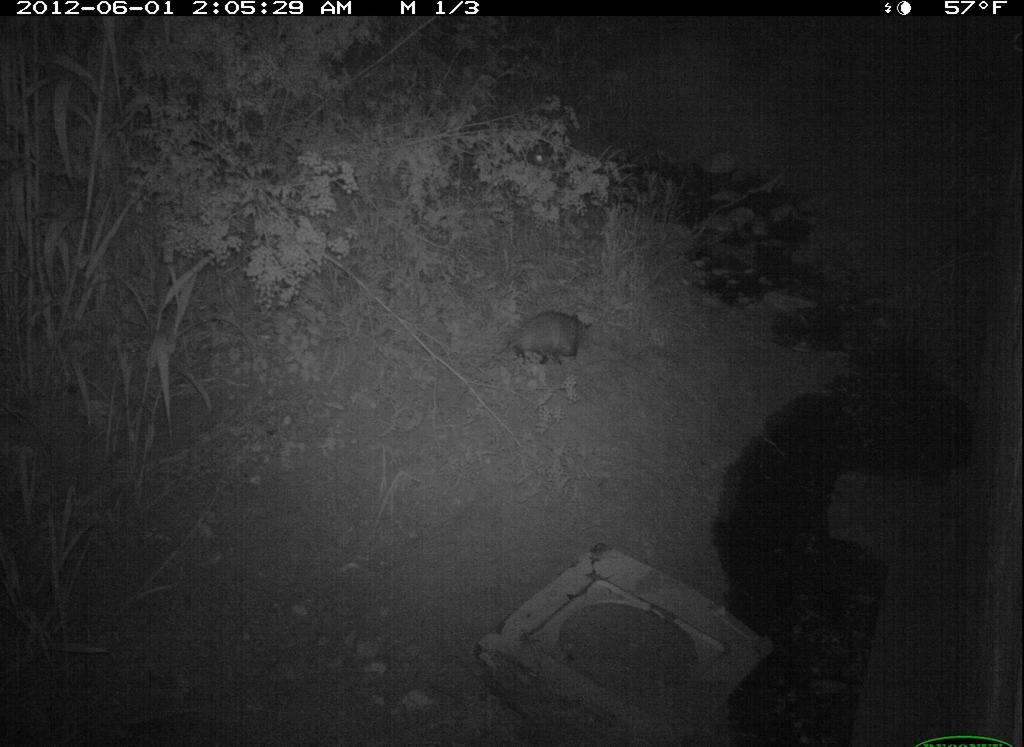opossum: (485, 309, 618, 382)
